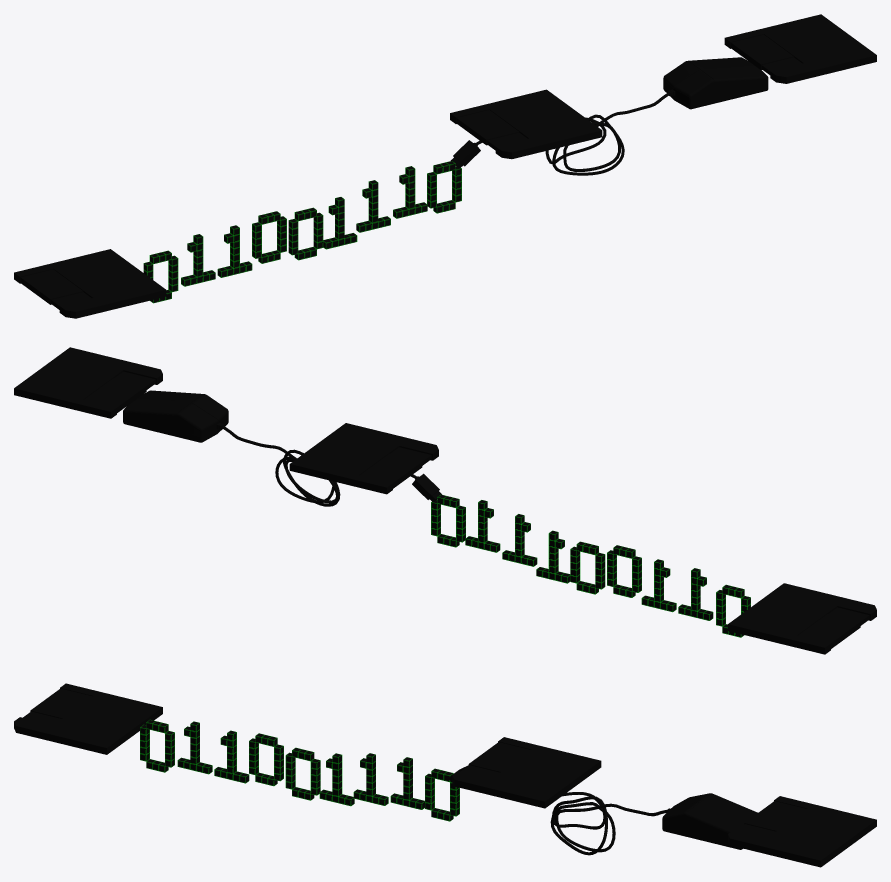
File: MainPlatform.fbx
The picture shows the model from 3 angles, top to bottom: view 1: azimuth 30°, elevation 25°; view 2: azimuth 150°, elevation 25°; view 3: azimuth 330°, elevation 25°; orthographic projection.
Parts seen in each view (by area): view 1: FloppyDisk, FloppyDisk1, FloppyDisk2, MouseBase, Cable, Zero2, Zero1, Zero3, Zero, One5, One1, One4 (+2 smaller); view 2: FloppyDisk1, FloppyDisk2, FloppyDisk, MouseBase, Cable, Zero2, Zero1, Zero3, One3, Zero, One2, One1 (+2 smaller); view 3: FloppyDisk1, FloppyDisk2, FloppyDisk, MouseBase, Cable, Zero2, Zero, Zero1, Zero3, One3, One2, One1 (+2 smaller).
Boxes of the visible parts, x1,y1,x2,y2 form: FloppyDisk: (14,249,166,318); FloppyDisk1: (450,89,602,159); FloppyDisk2: (724,14,876,83); MouseBase: (663,57,768,109); Cable: (476,92,669,175); Zero2: (288,207,323,260); Zero1: (252,211,286,263); Zero3: (427,161,461,213); Zero: (143,250,178,303); One5: (393,166,427,218); One1: (181,234,215,286); One4: (356,180,390,232); FloppyDisk1: (289,423,438,494); FloppyDisk2: (14,347,162,418); FloppyDisk: (728,583,876,654); MouseBase: (123,390,228,442); Cable: (222,425,416,506); Zero2: (570,541,605,594); Zero1: (607,545,641,597); Zero3: (431,494,465,547); One3: (536,530,570,583); Zero: (716,584,750,637); One2: (641,559,676,612); One1: (678,568,713,620); FloppyDisk1: (452,737,601,808); FloppyDisk2: (728,796,876,867); FloppyDisk: (14,683,162,754); MouseBase: (662,793,757,849); Cable: (550,792,666,855); Zero2: (285,747,320,800); Zero: (140,719,174,772); Zero1: (249,733,283,786); Zero3: (425,768,459,821); One3: (319,753,354,806); One2: (214,730,249,783); One1: (177,721,212,774).
Size of the model in its own units: 180 by 20.97 by 21.6.
